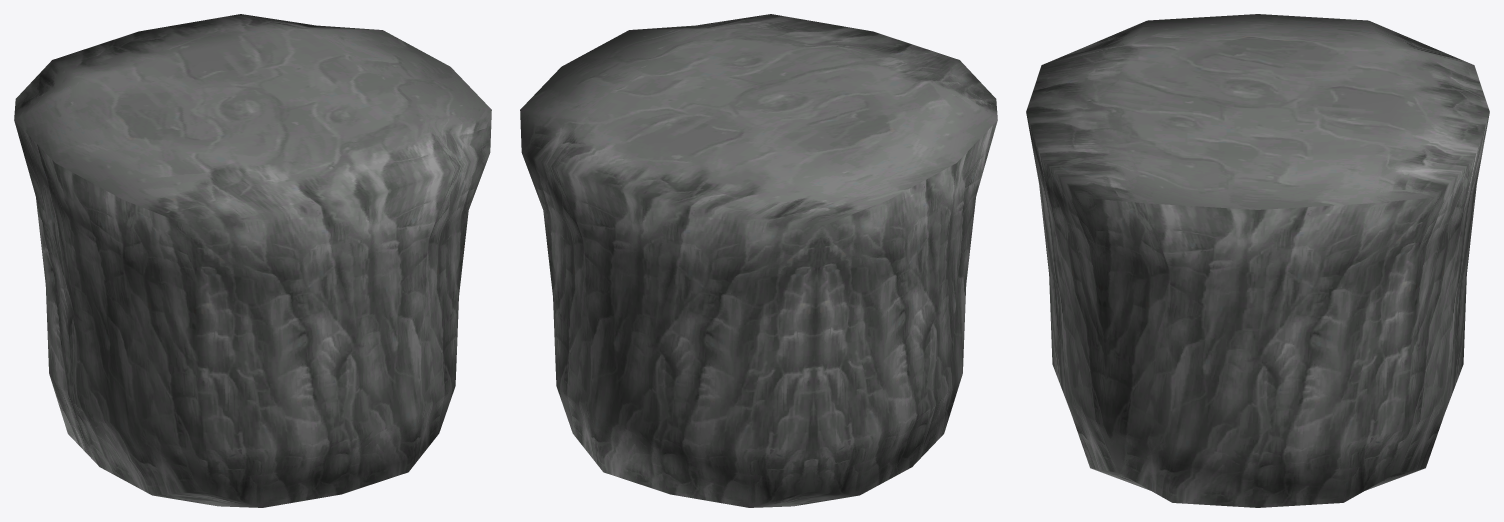
The model's file is INST_SWORDLIGHT_ROCKPLATB.fbx.
The picture shows the model from 3 angles, left to right: view 1: azimuth 30°, elevation 25°; view 2: azimuth 150°, elevation 25°; view 3: azimuth 270°, elevation 25°; orthographic projection.
Visible parts, largest first — view 1: INST_SWORDLIGHT_ROCKPLATB; view 2: INST_SWORDLIGHT_ROCKPLATB; view 3: INST_SWORDLIGHT_ROCKPLATB.
Part boxes in pixels (x1,y1,x2,y2): INST_SWORDLIGHT_ROCKPLATB: [14, 14, 491, 507]; INST_SWORDLIGHT_ROCKPLATB: [520, 14, 997, 507]; INST_SWORDLIGHT_ROCKPLATB: [1026, 14, 1489, 507].
Size of the model in its own units: 21152 by 17951 by 21152.
Materials: 2 (2 with a texture image).
